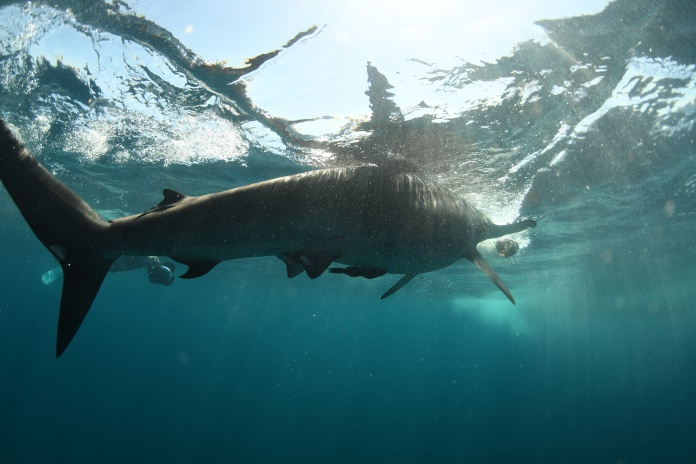Hammer: (1, 69, 579, 357)
